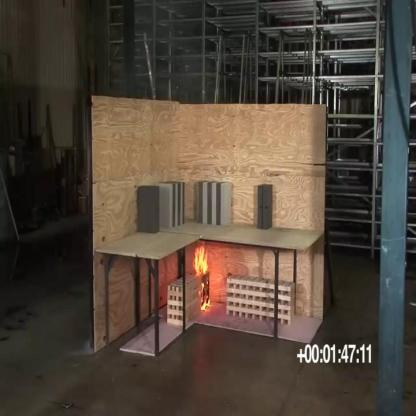fire: (194, 247, 209, 276), (200, 281, 210, 310)
